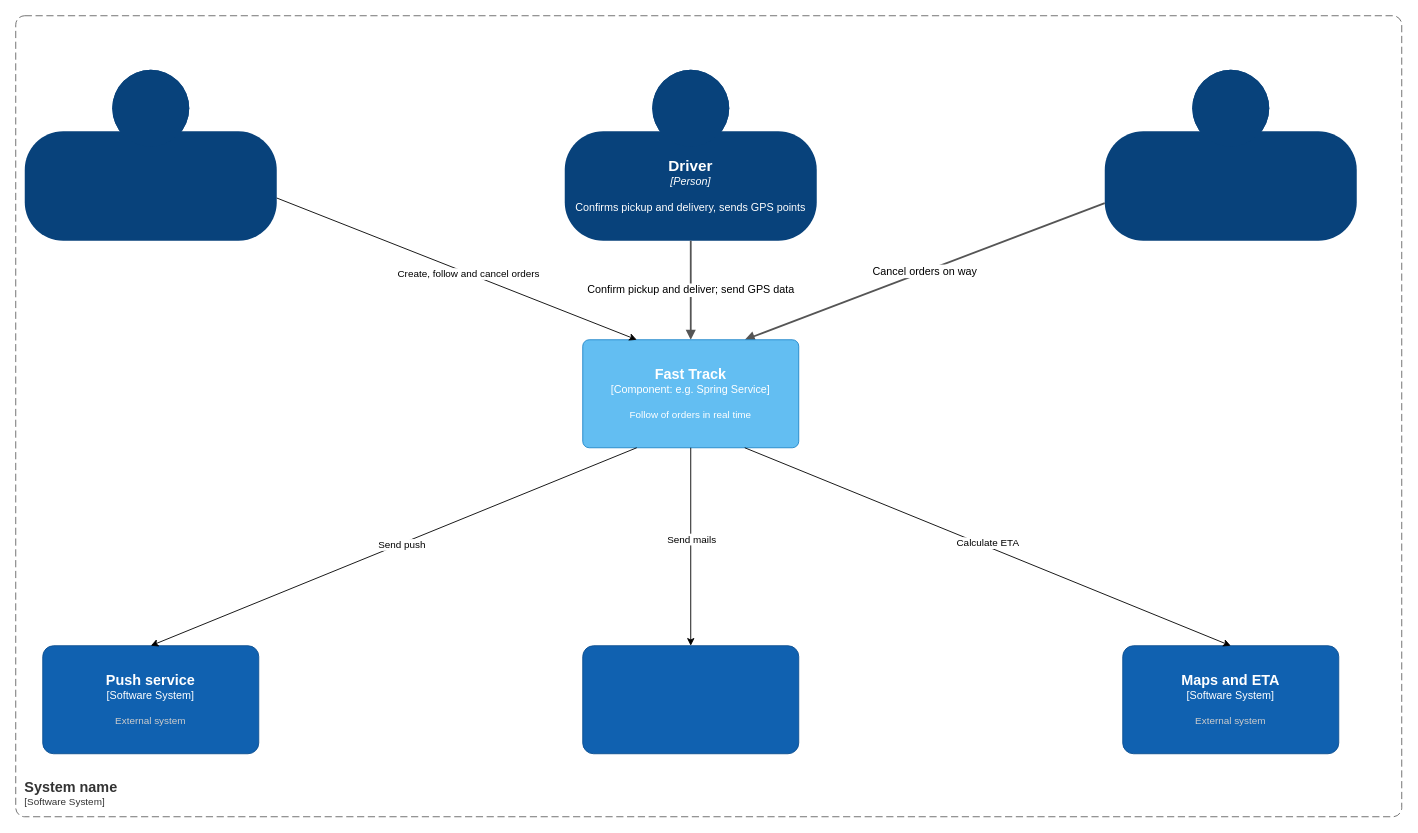
This 1418x833 diagram has some shape labels left out. Each missing label, with the box of its shape:
Customer [Person] Creates orders, tracks them live, cancels while CREATED: (24, 69, 276, 240)
Mail Service [Software System] External system: (582, 645, 799, 754)
Operations Staff [Person] Cancels ON_THE_WAY orders with a reason, audits routes: (1104, 69, 1356, 240)
